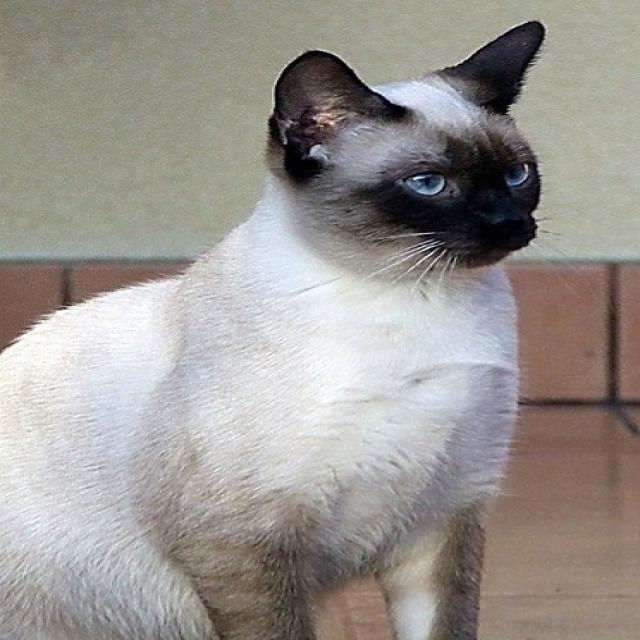cat: (1, 18, 557, 640)
